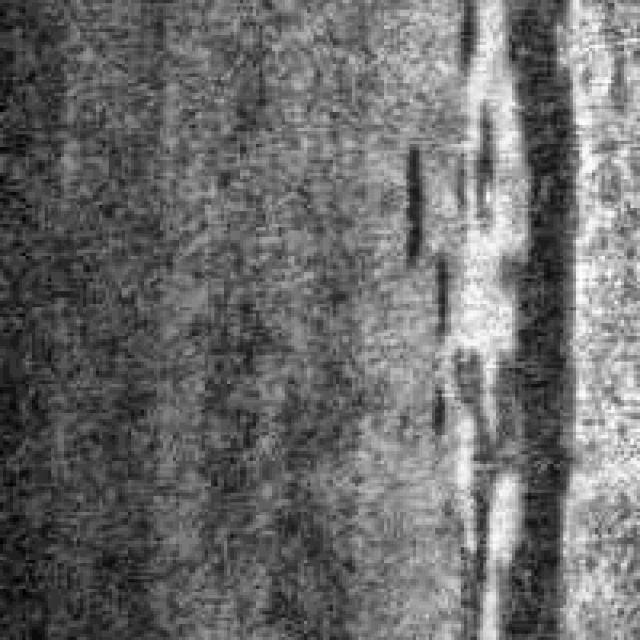Patches: (429, 0, 576, 630)
